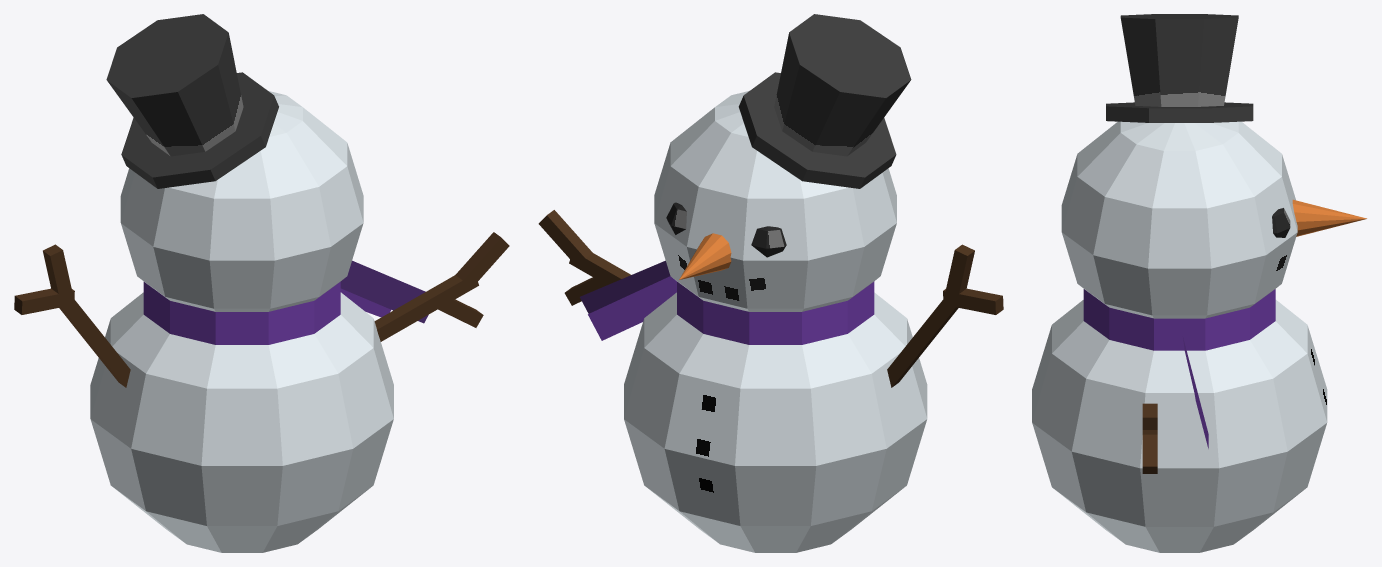
The model's file is snowman.gltf.
The picture shows the model from 3 angles, left to right: view 1: azimuth 30°, elevation 25°; view 2: azimuth 150°, elevation 25°; view 3: azimuth 270°, elevation 25°; orthographic projection. The views are drawn at different scales.
Visible parts, largest first — view 1: sphere (×2), cylinder (×9), plane; view 2: sphere (×3), cylinder (×9), plane (×2), cone; view 3: sphere (×3), cylinder (×5), cone.
Part boxes in pixels (x1,y1,x2,y2): sphere (×2): (90, 91, 393, 552); cylinder (×9): (14, 14, 509, 387); plane: (340, 260, 428, 323); sphere (×3): (624, 91, 927, 552); cylinder (×9): (538, 14, 1003, 387); plane (×2): (580, 260, 676, 340); cone: (679, 233, 731, 279); sphere (×3): (1032, 121, 1327, 552); cylinder (×5): (1083, 14, 1275, 473); cone: (1292, 199, 1366, 236).
Bounding box in the file's own units: 2.25 × 2.37 × 1.42.
Materials: 3 (3 with a texture image).
